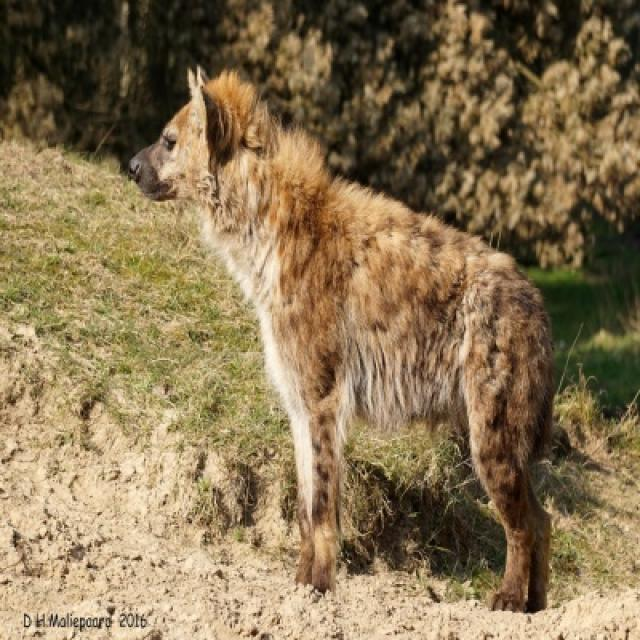hyena: (126, 70, 557, 616)
